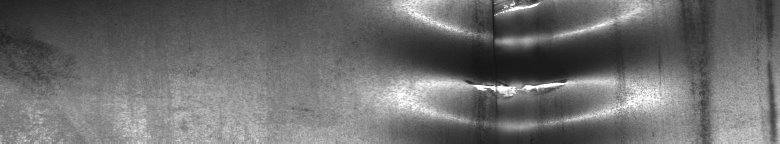ke: (414, 4, 632, 136)
